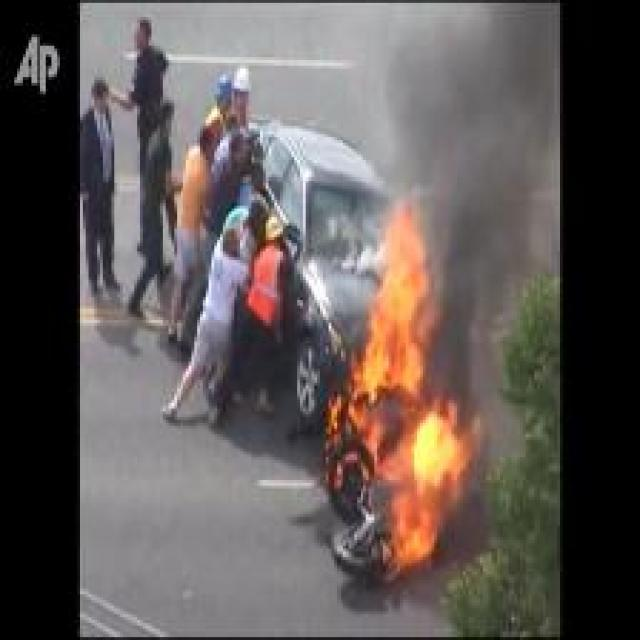Fire: (328, 194, 481, 577)
